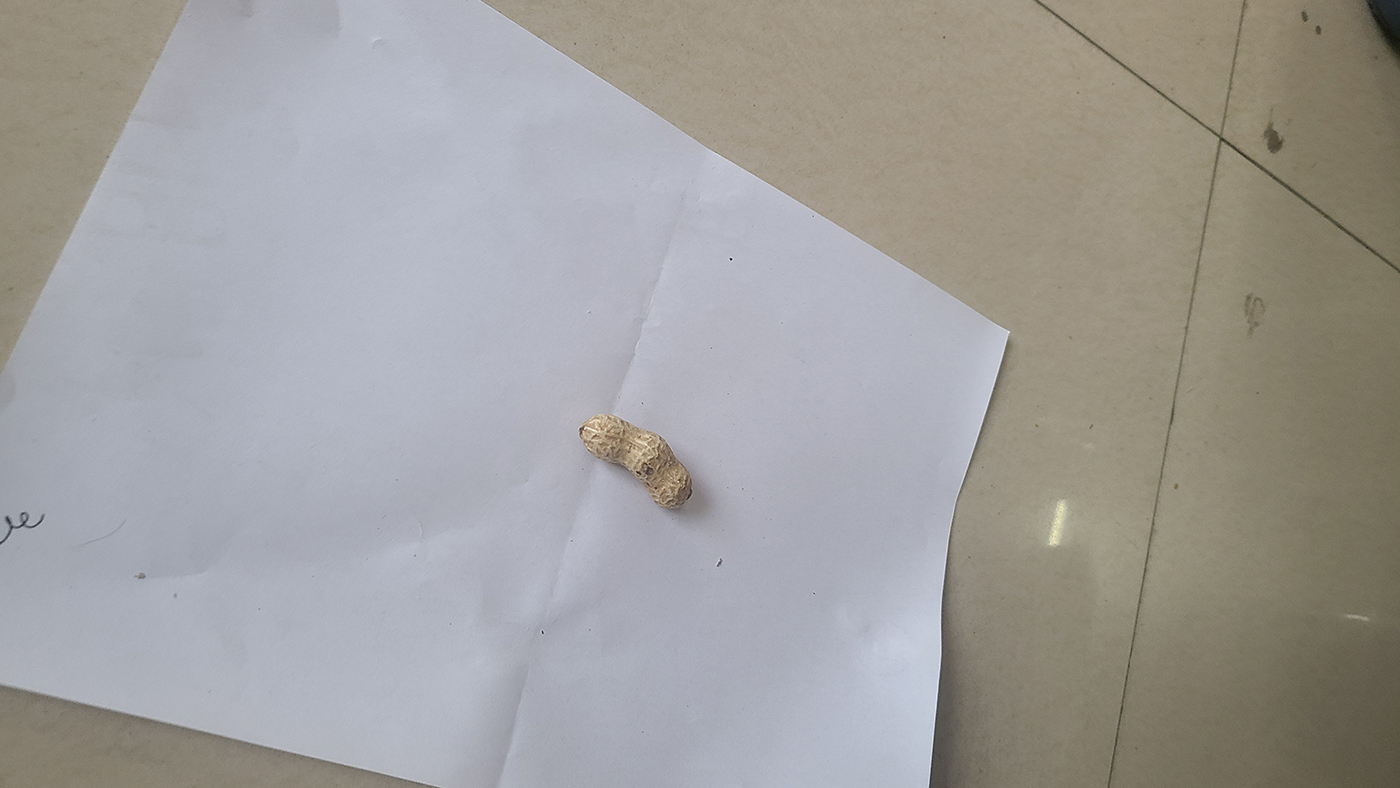h: (578, 412, 695, 511)
